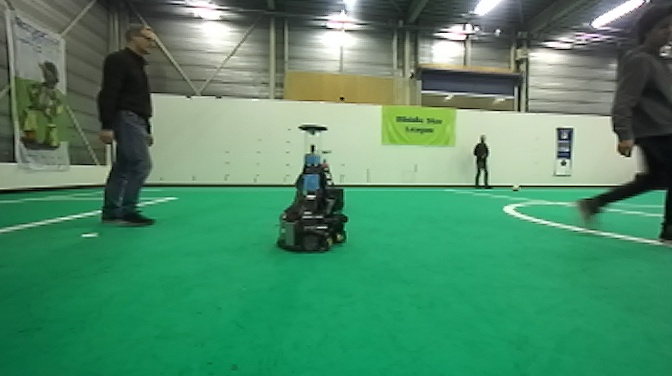ball: (509, 181, 523, 194)
human: (574, 3, 672, 242), (95, 23, 159, 228), (473, 133, 495, 189)
robot: (275, 123, 348, 254), (306, 148, 347, 212)
